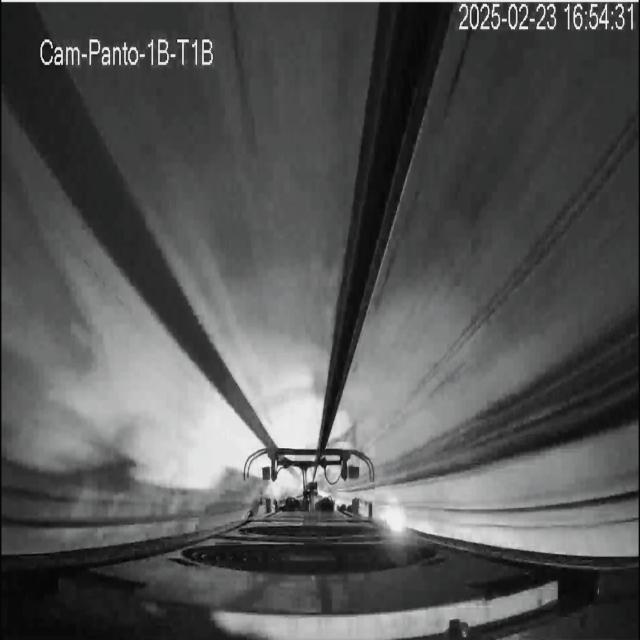Camera Stamp: (35, 28, 219, 71)
Date Stamp: (458, 3, 635, 33)
No - Spark: (243, 442, 374, 506), (376, 495, 415, 539)
